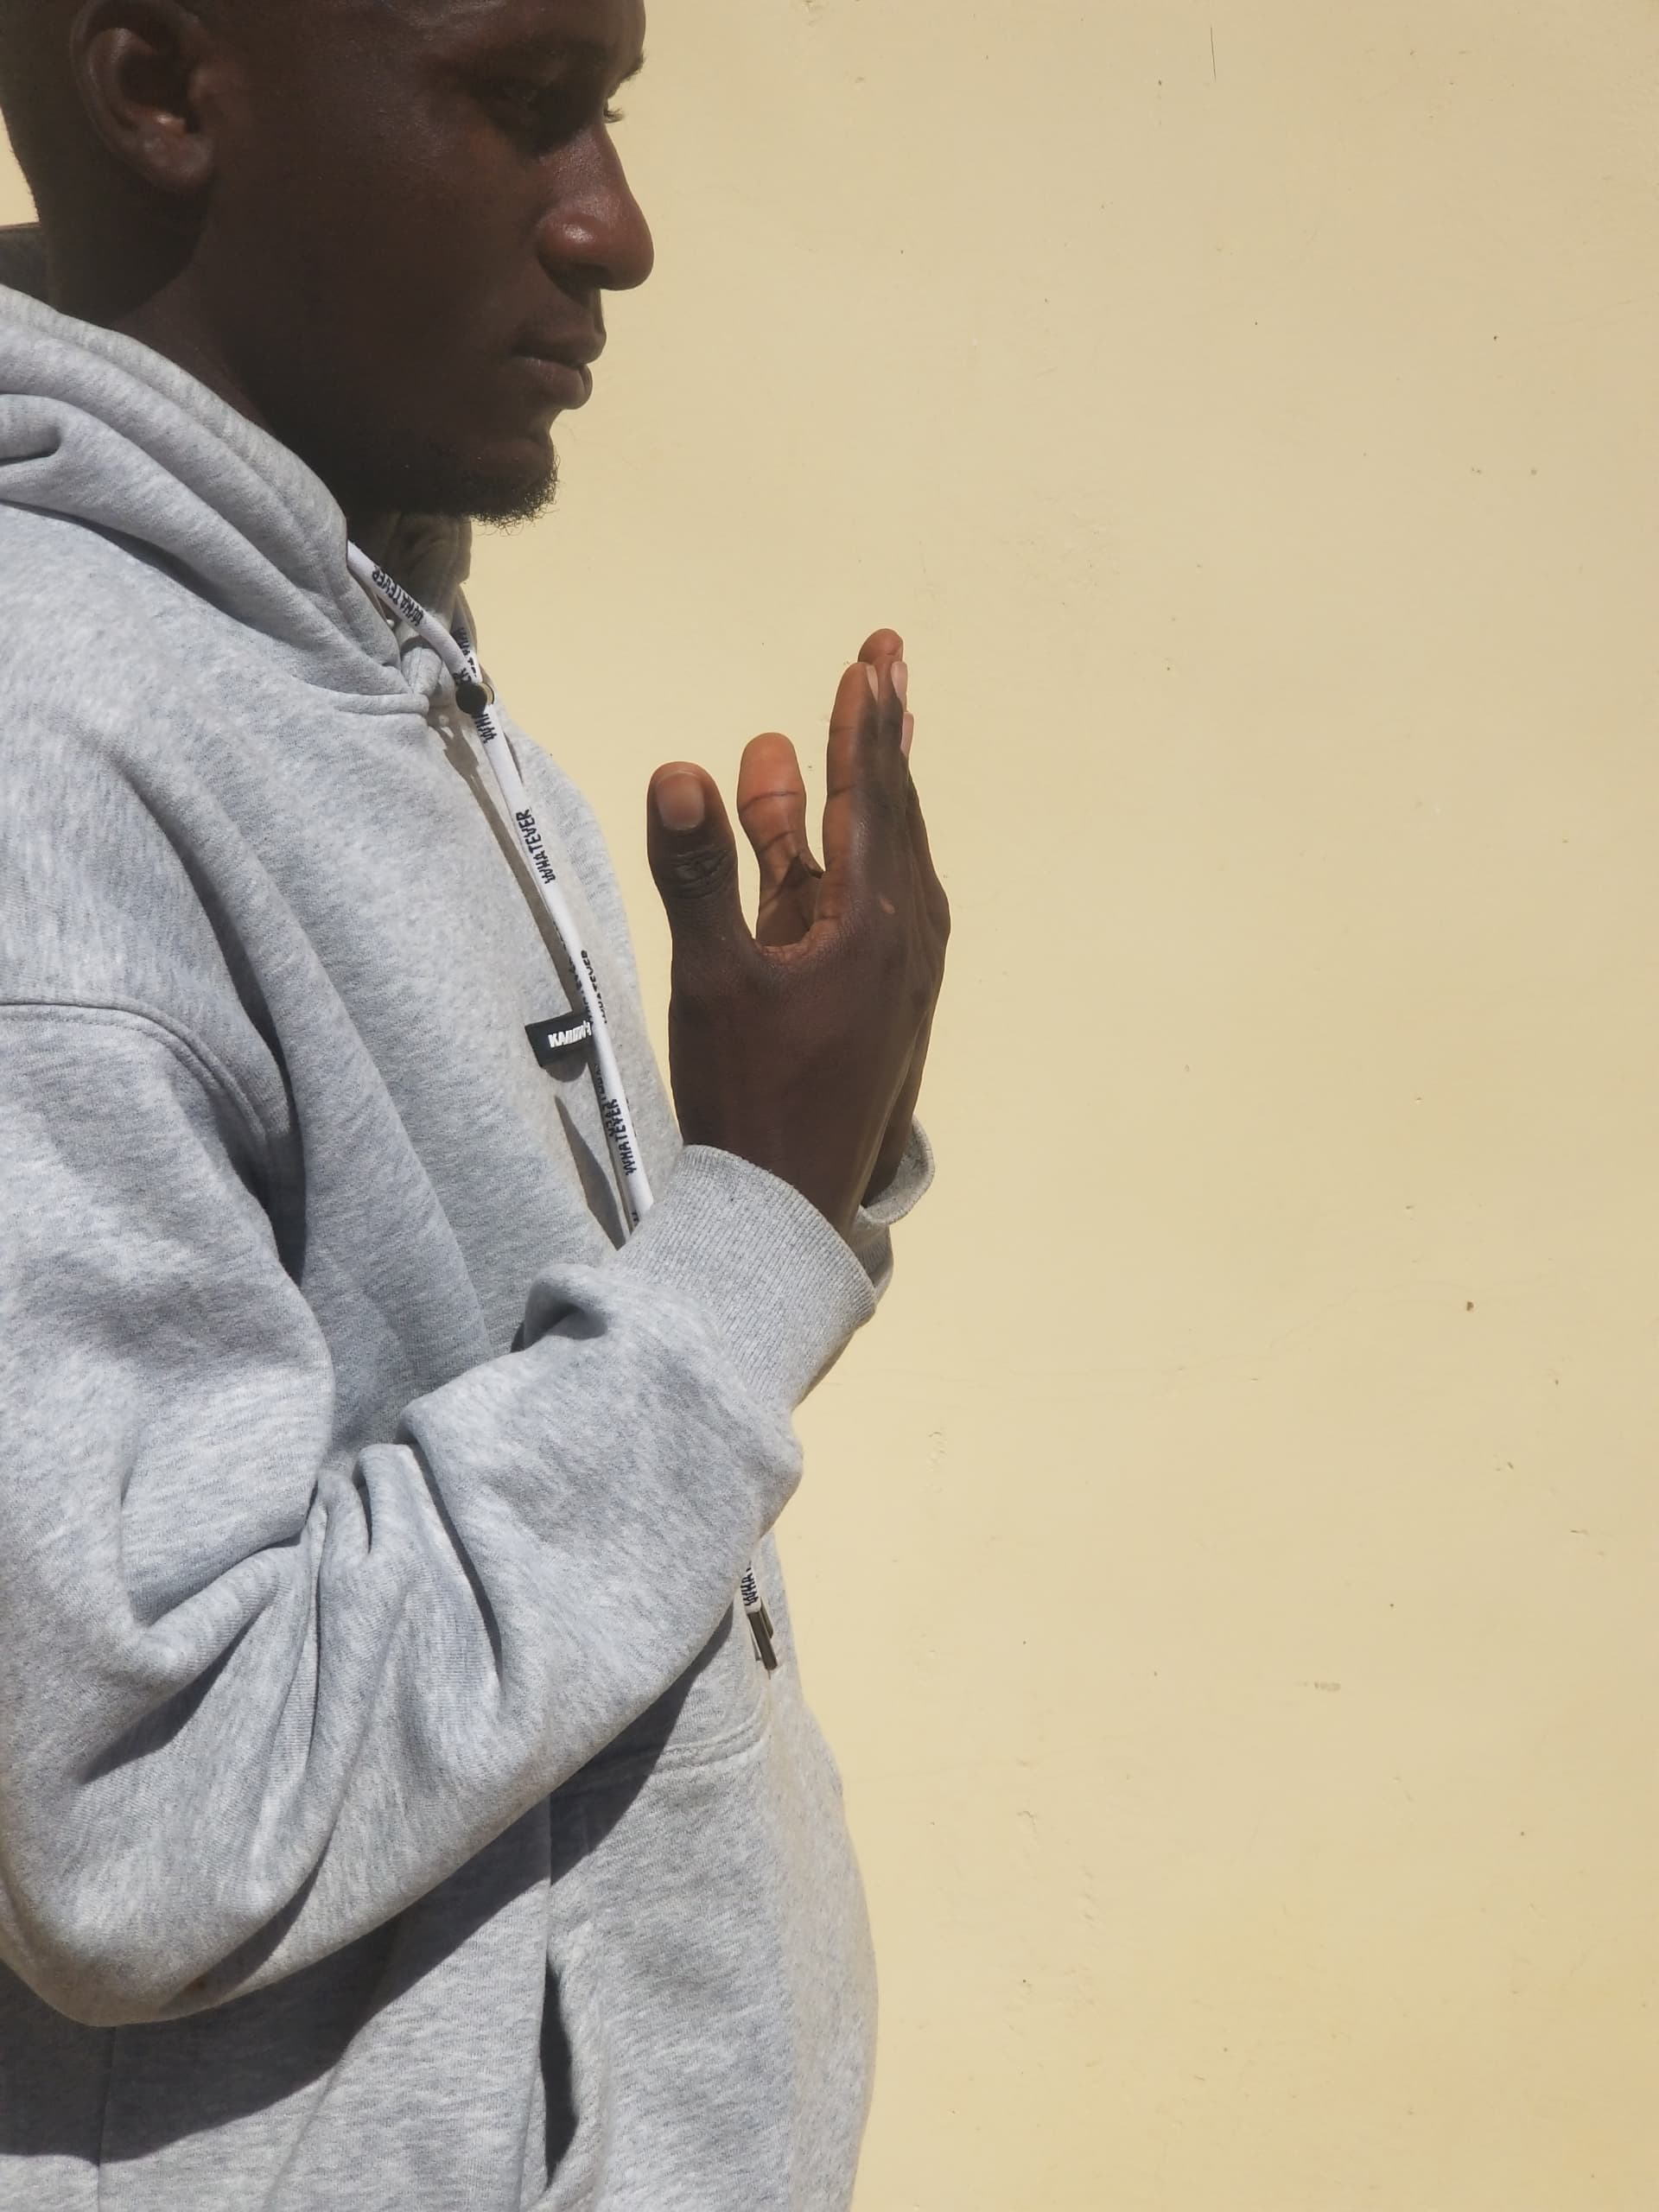thankyou: (523, 596, 1086, 1292)
